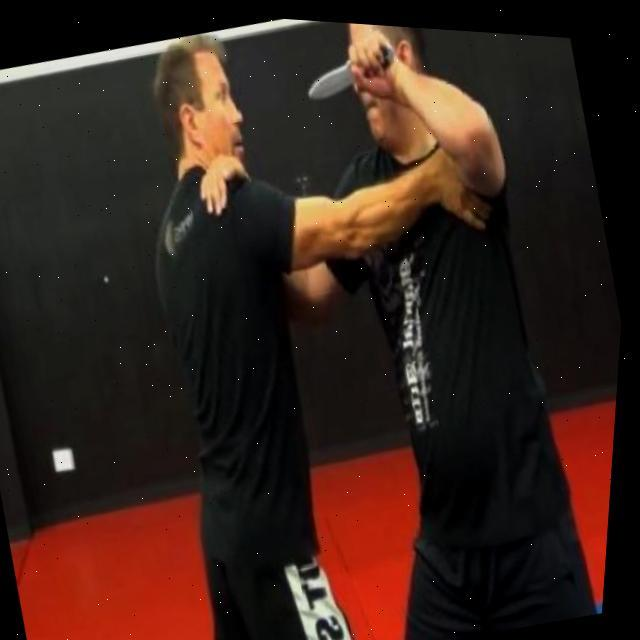knife: (300, 32, 402, 101)
